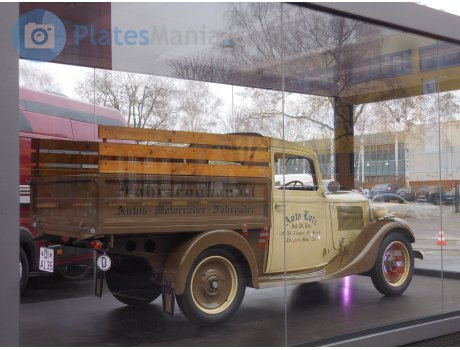License Plates: (40, 247, 50, 268)
